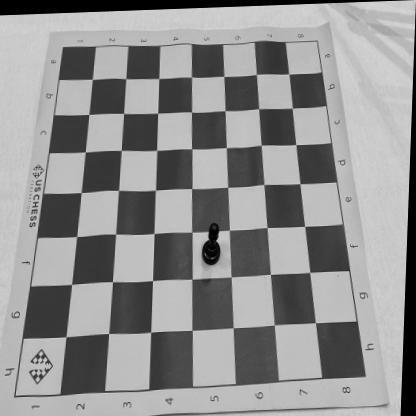black-pawn: (202, 219, 224, 266)
